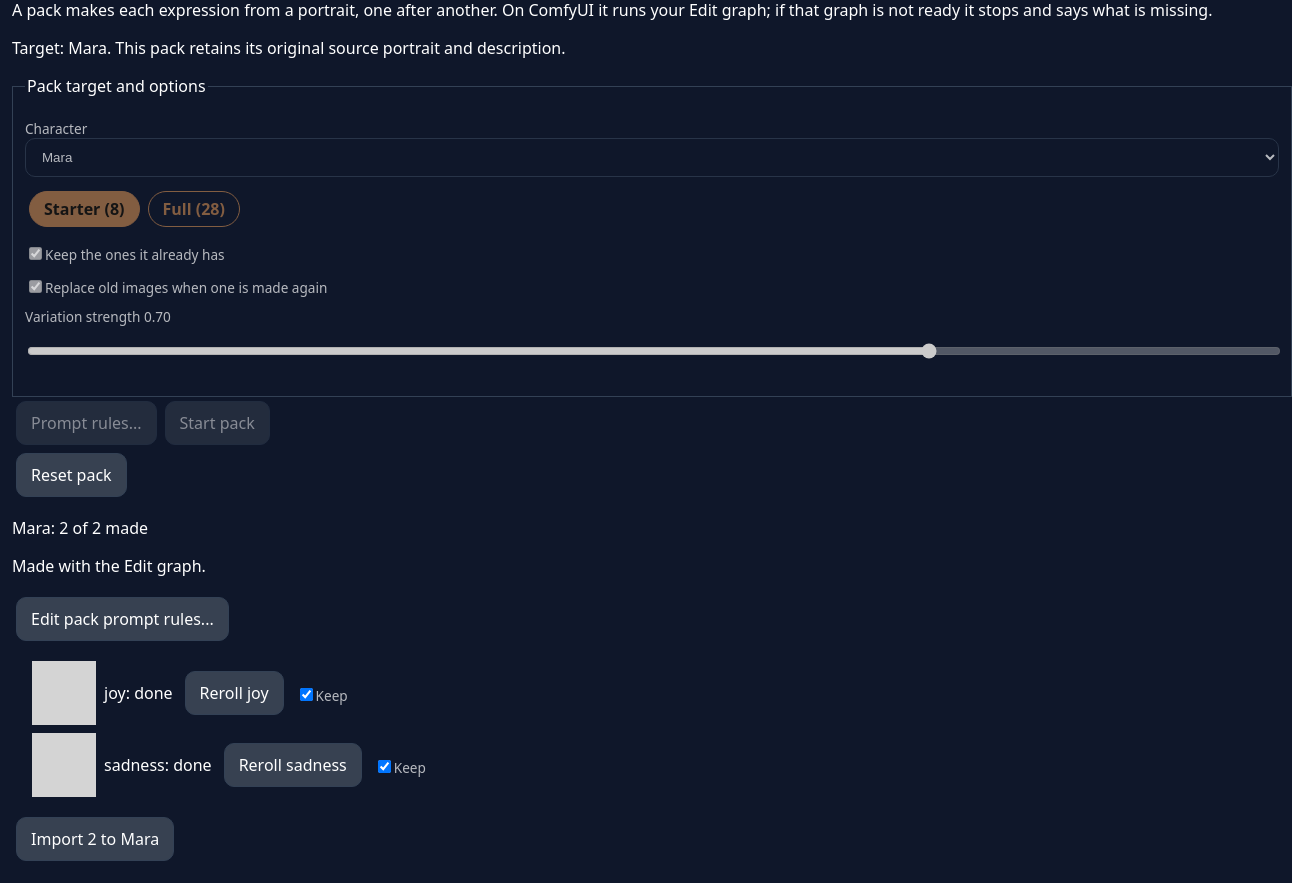
Scenario: importing › says what went wrong
Click the button "Import 2 to Mara" at (95, 839), box [16,817,174,861]
(page scrolled)
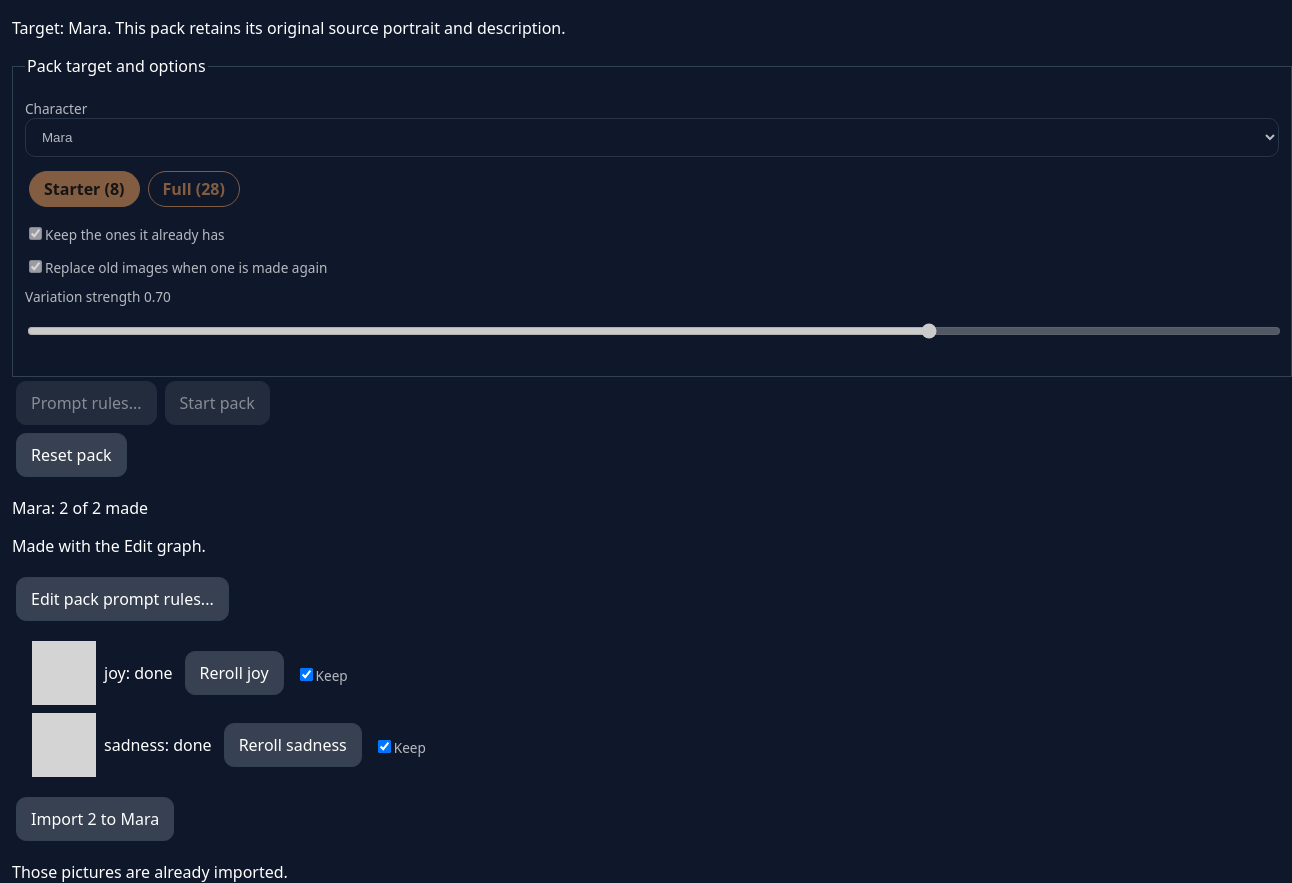
Result: the message "Those pictures are already imported." is shown at [12,861,288,882]
